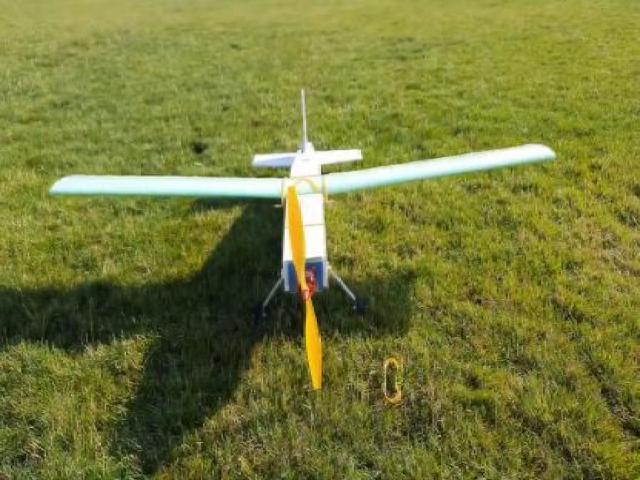uav: (50, 88, 559, 309)
